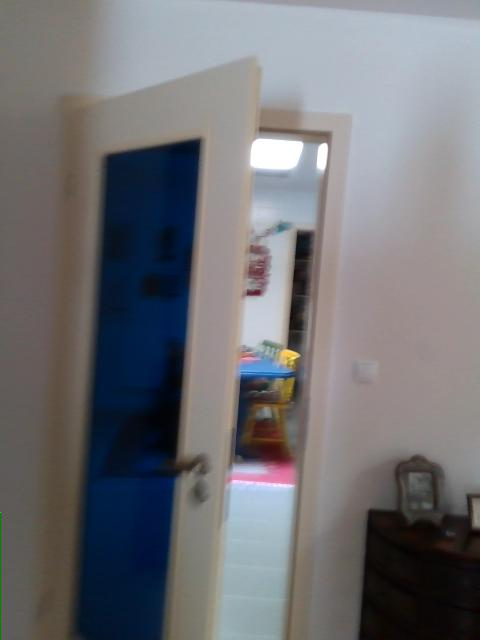semi_door: (30, 51, 351, 639)
